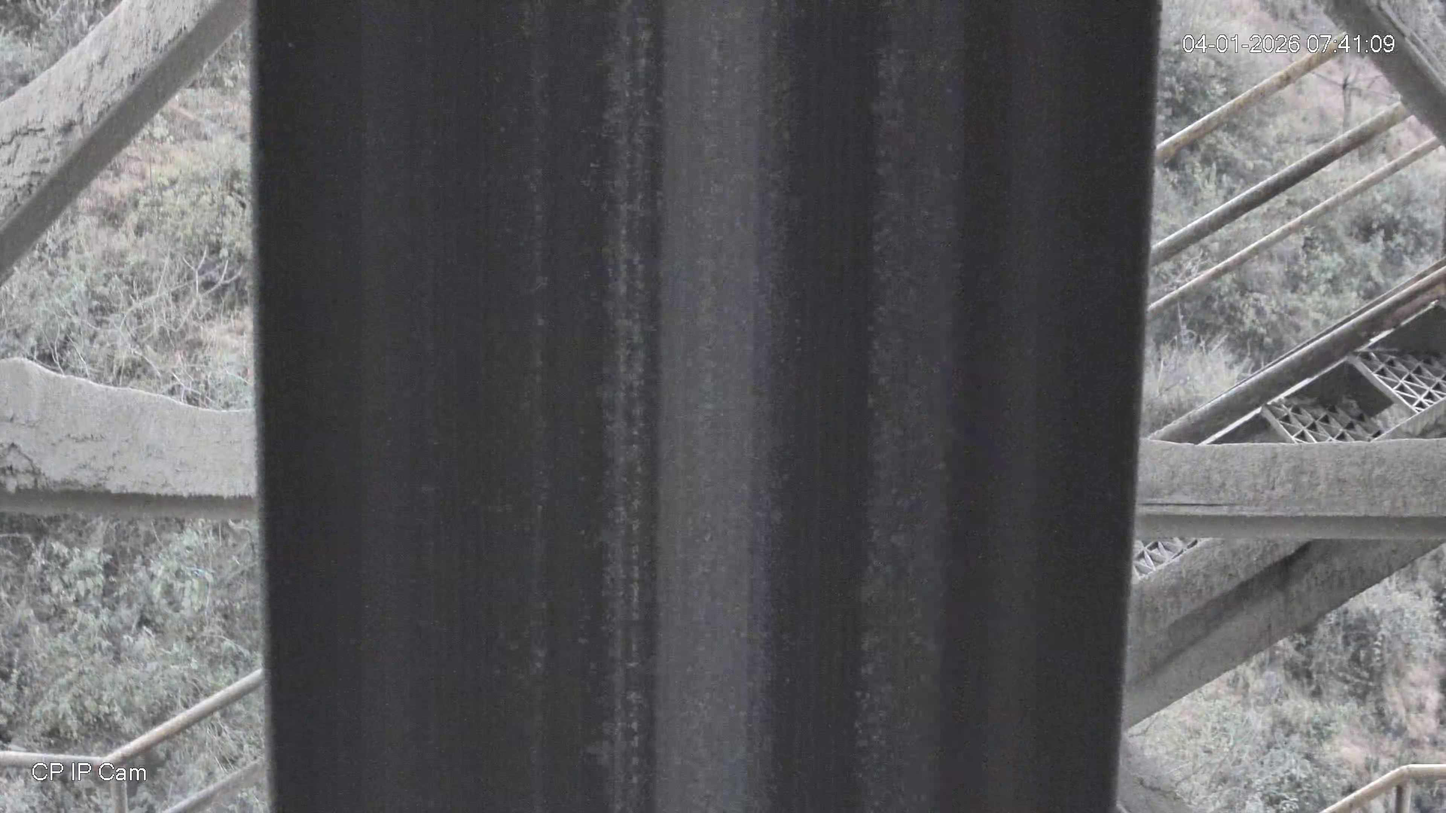belt_roi: (253, 0, 1160, 813)
